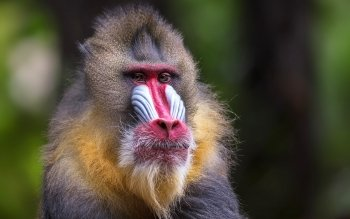Mandrill: (60, 12, 230, 207)
